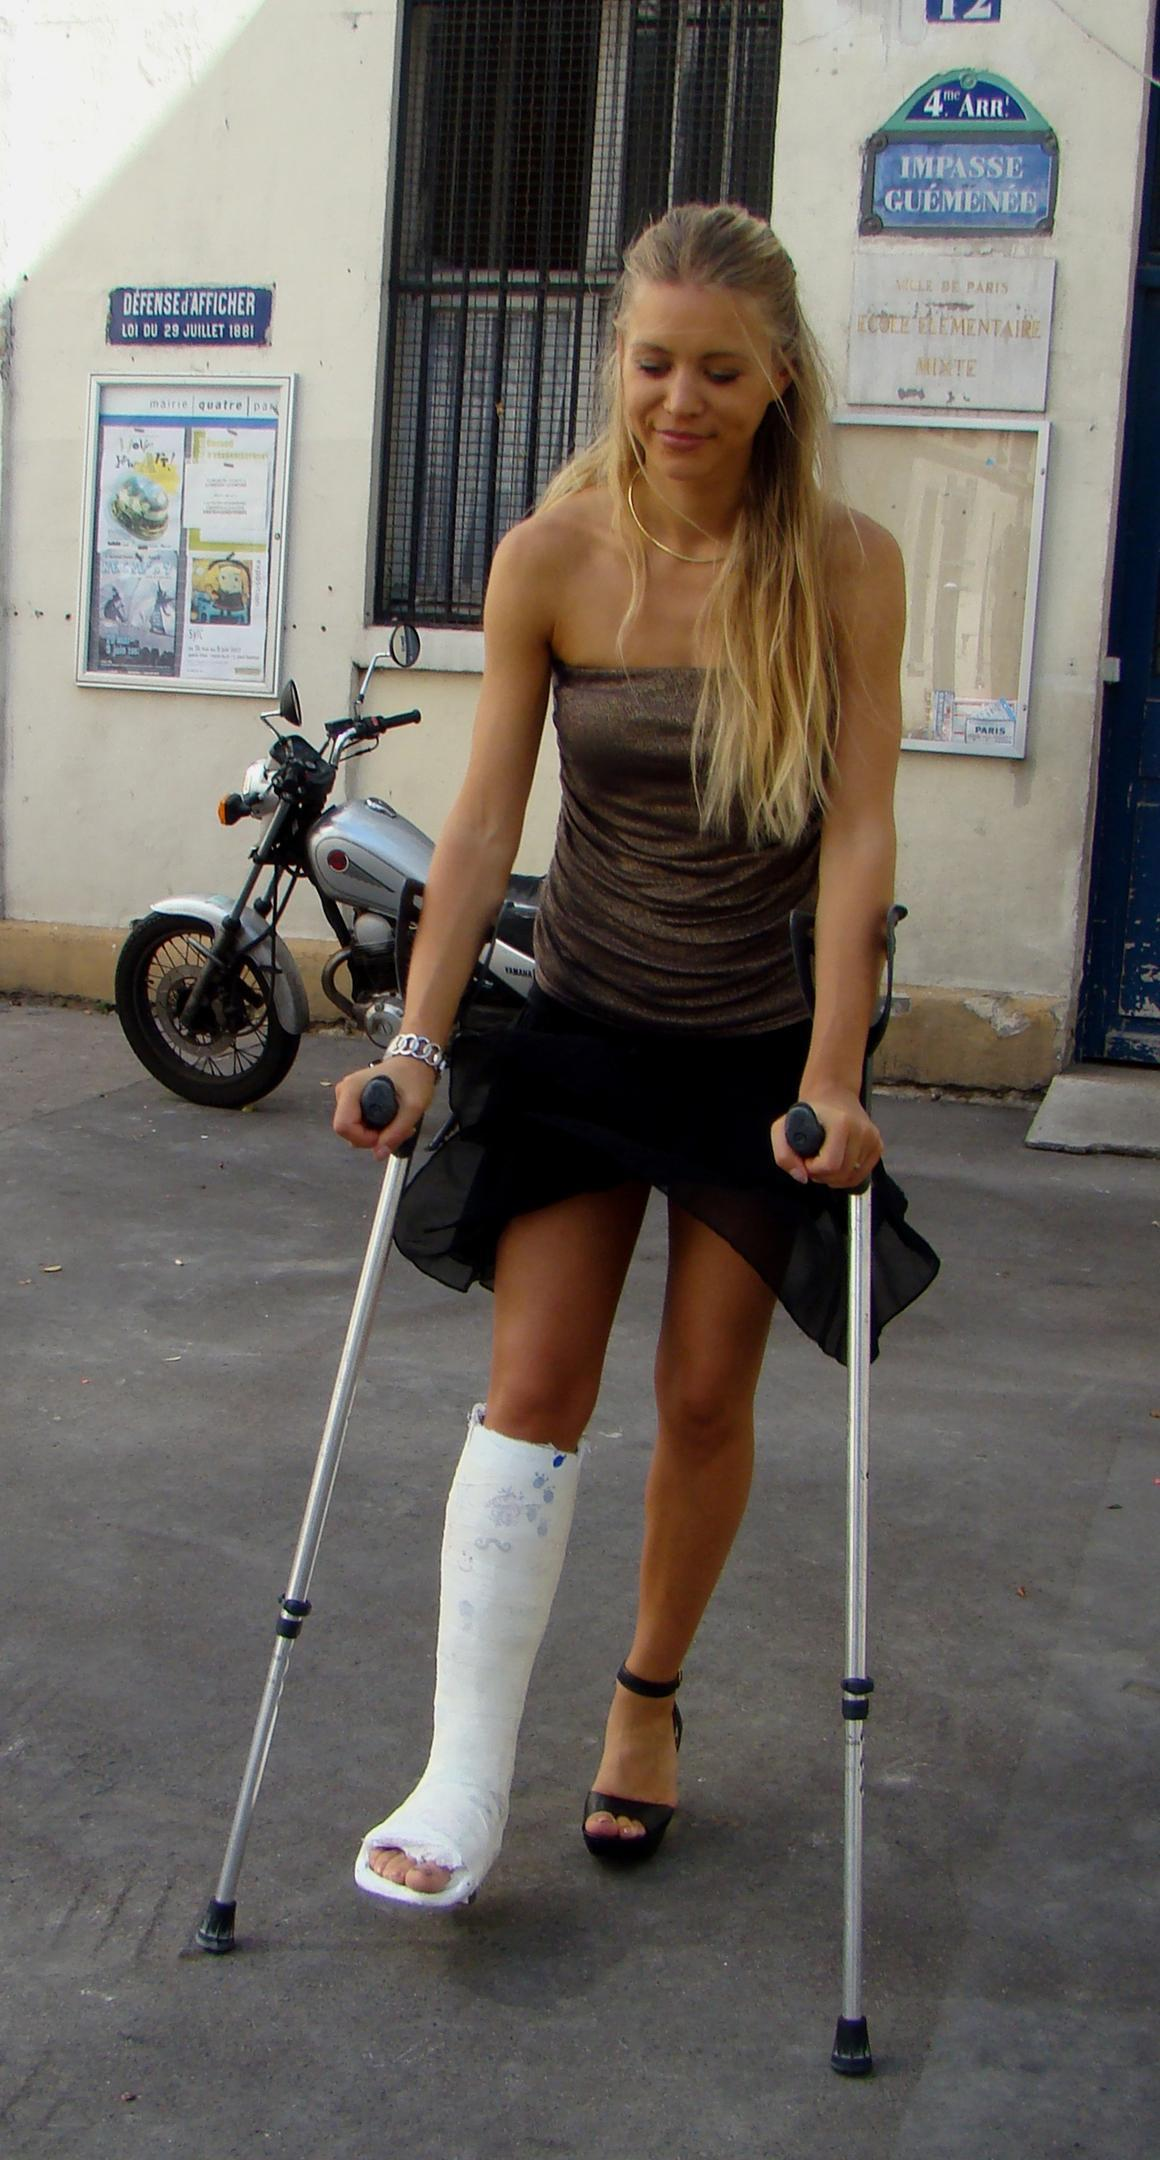crutches: (203, 210, 940, 2083)
